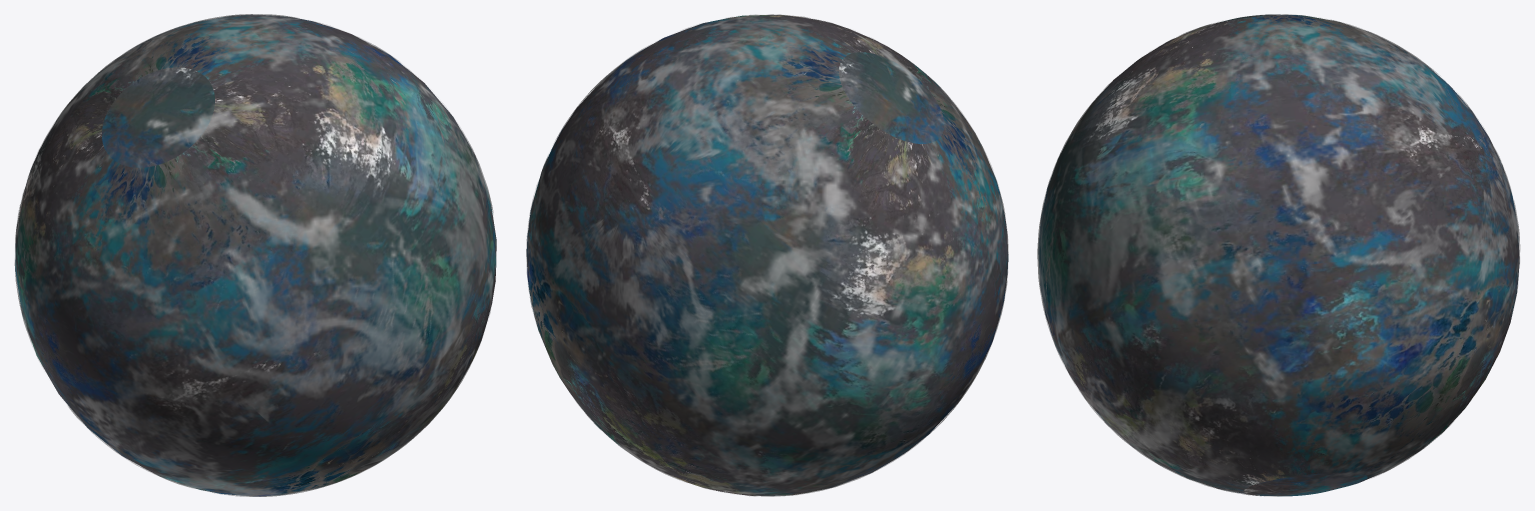
File: planet3d.glb
3 renders of one model, left to right at view 1: azimuth 30°, elevation 25°; view 2: azimuth 150°, elevation 25°; view 3: azimuth 270°, elevation 25°, orthographic.
Visible parts, largest first — view 1: planet_02 - Default_0, clouds; view 2: planet_02 - Default_0, clouds; view 3: planet_02 - Default_0, clouds.
Part boxes in pixels (x1,y1,x2,y2): planet_02 - Default_0: (15,14,496,496); clouds: (14,14,493,496); planet_02 - Default_0: (526,15,1008,495); clouds: (526,14,1008,496); planet_02 - Default_0: (1038,14,1519,496); clouds: (1037,14,1520,496).
Size of the model in its own units: 81.28 by 81.3 by 81.35.
2 materials, 2 textured.
